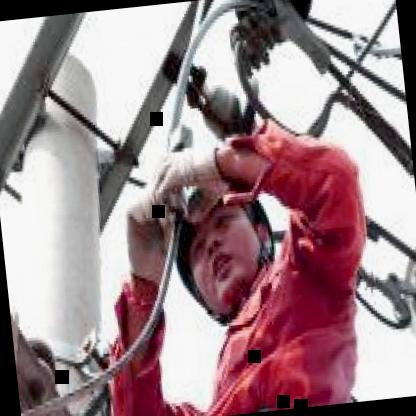helmet: (154, 166, 281, 326)
